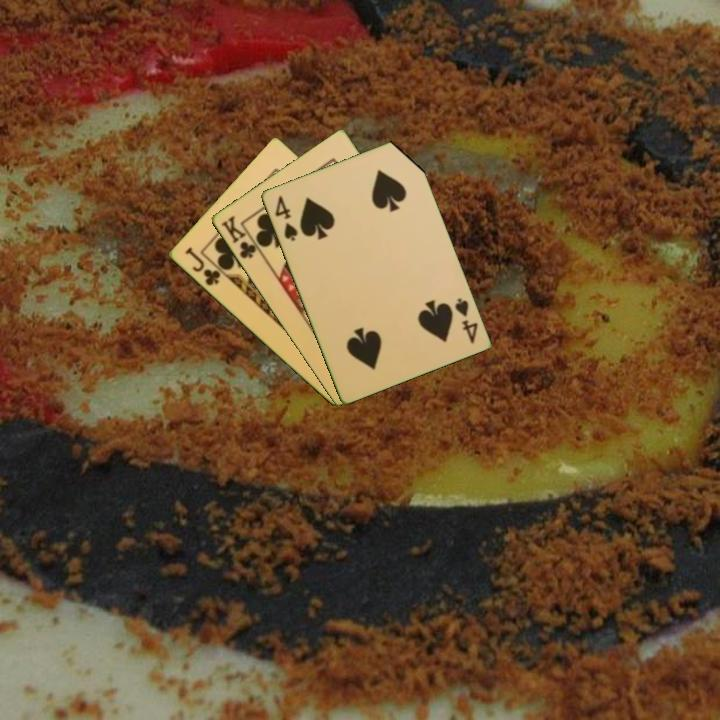4s: (271, 192, 300, 244), (451, 294, 480, 346)
Jc: (181, 243, 223, 289)
Kc: (217, 212, 264, 262)
